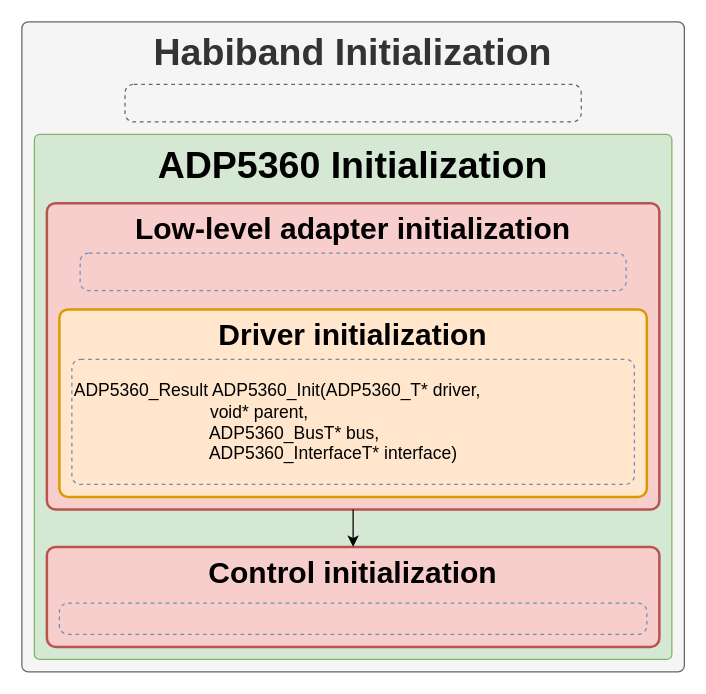
The diagram is 706 pixels wide and 694 high, and some of its shapes have lost their labels. The shapes that lost their labels are listed below. From the top down, each one's centre as x and y in pixels, then its label:
At [352,102]: "xResult HabibandInit(HabibandT* device, void* parent)".
At [352,271]: "ADP5360_Result ADP5360_AdapterInit(ADP5360_ControlT* device)".
At [352,618]: "xResult ADP5360_ControlInit(ADP5360_ControlT* device, void* parent)".
